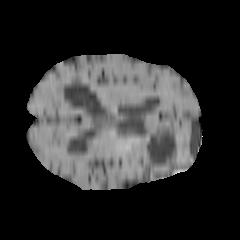glioma: (125, 118, 183, 172)
